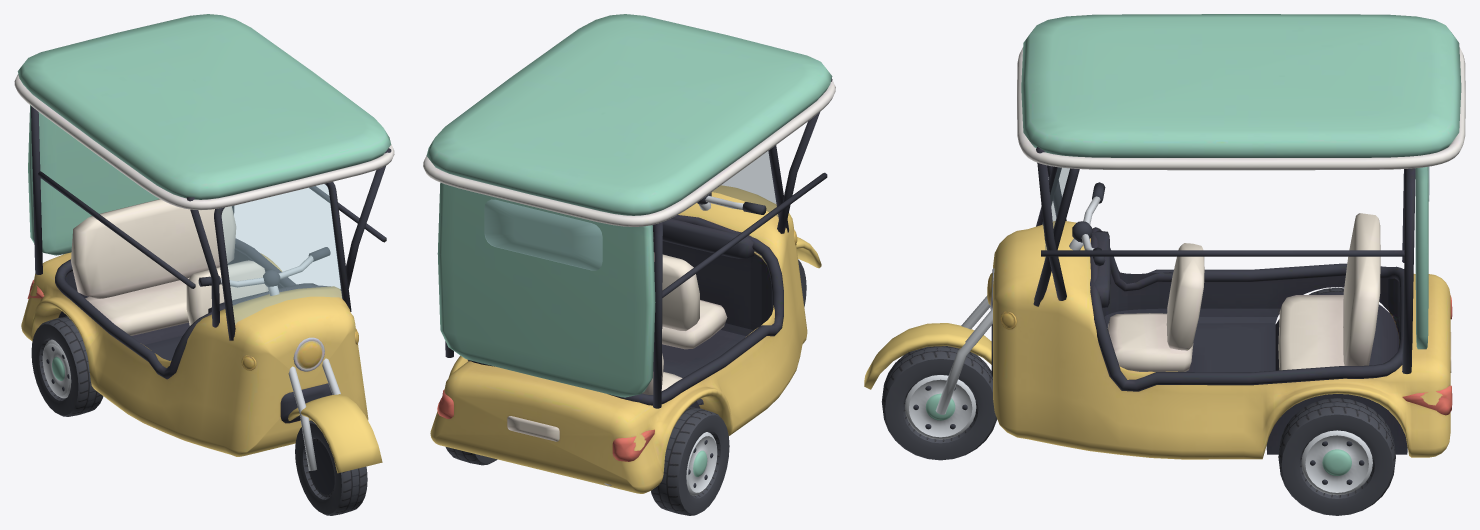
Rendered from cng.glb.
3 views of the same model, side by side, from view 1: azimuth 30°, elevation 25°; view 2: azimuth 150°, elevation 25°; view 3: azimuth 270°, elevation 25° (orthographic). The views are drawn at different scales.
Visible parts, largest first — view 1: tuk-tuk_body, tuk-tuk_windows, handlebar, wheel_RR, wheel_F; view 2: tuk-tuk_body, tuk-tuk_windows, wheel_RR, handlebar; view 3: tuk-tuk_body, wheel_RL, wheel_F, handlebar.
Part boxes in pixels (x1,y1,x2,y2): tuk-tuk_body: (14, 14, 394, 456); tuk-tuk_windows: (222, 184, 341, 324); handlebar: (198, 247, 382, 473); wheel_RR: (31, 316, 103, 416); wheel_F: (295, 420, 367, 515); tuk-tuk_body: (423, 14, 835, 493); tuk-tuk_windows: (484, 151, 777, 270); wheel_RR: (651, 406, 729, 515); handlebar: (697, 192, 821, 268); tuk-tuk_body: (987, 14, 1465, 459); wheel_RL: (1278, 398, 1395, 515); wheel_F: (881, 346, 997, 460); handlebar: (864, 182, 1105, 414).
Size of the model in its own units: 1.46 by 1.94 by 2.76.
17 materials, 4 textured.
